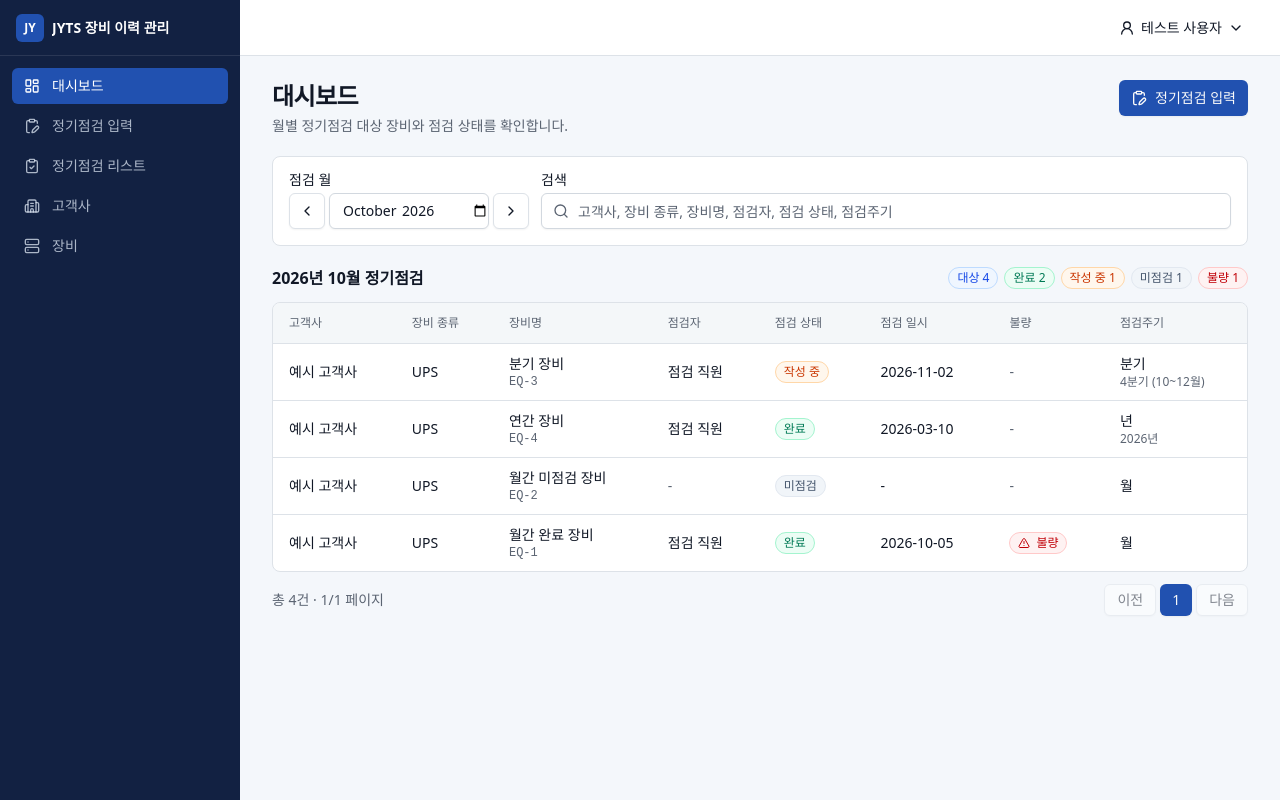
Test case: dashboard › shows the selected month table with status, bad marker, cycle and search
Expected: the number of rows is 5, [273,303,1247,343]; [273,343,1247,400]; [273,400,1247,457]; [273,457,1247,514]; [273,514,1247,570]
Expected: the text "완료" in the row of "월간 완료 장비" is shown, [784,534,806,550]
Type "미점검" into the search field labelled "검색". click: {"x": 886, "y": 211}
box: [541,193,1231,229]
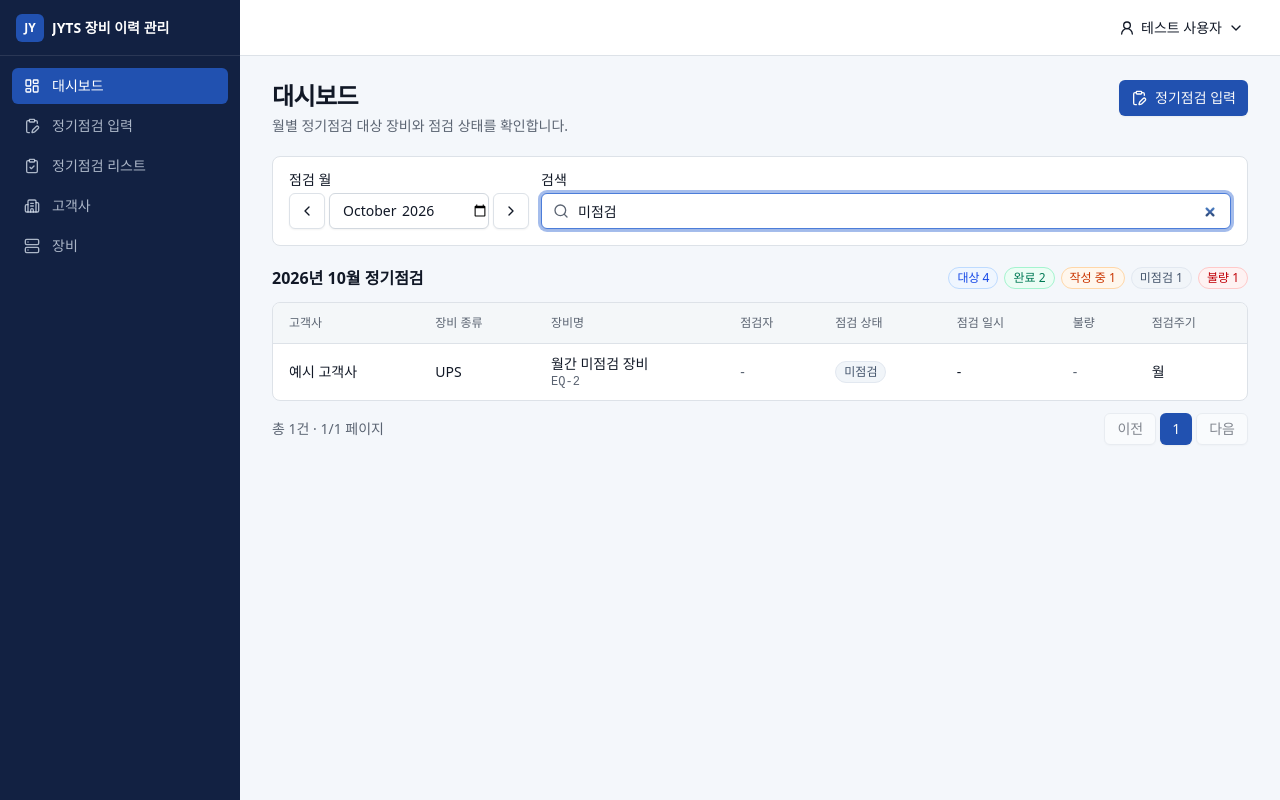
Expected: the number of rows is 2, [273,303,1247,343]; [273,343,1247,400]
